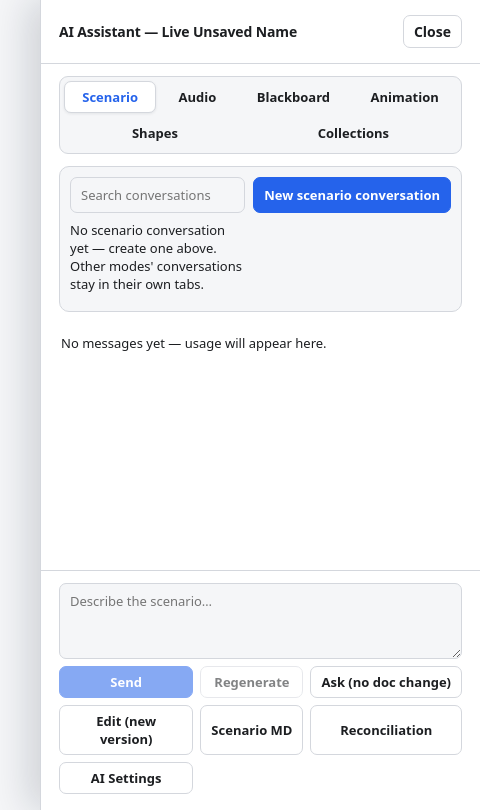
AiPanel animation mode › switches to a dedicated animation mode without lesson stages
This screenshot has width=480, height=810.
What coordinates should you click on to do the following:
click the button with test id "ai-mode-animation"
I would click on:
 (405, 97)
Its box is [352,81,457,113].
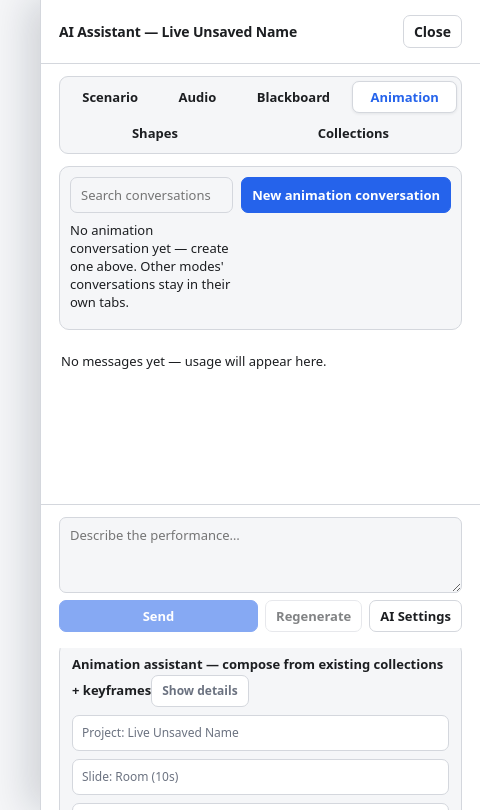
Now the element with test id "ai-animation-section" is shown, box [59,642,462,809]
Now the text with test id "ai-animation-project" shows "Live Unsaved Name", box [128,724,239,740]
Now the button with test id "ai-scenario-open-modal" is gone
